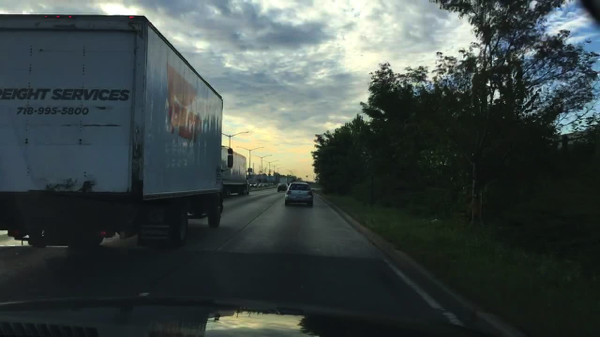car: (283, 181, 312, 204), (276, 182, 287, 191), (258, 183, 266, 187), (249, 182, 256, 185)
truck: (1, 14, 235, 250), (220, 145, 255, 197)
